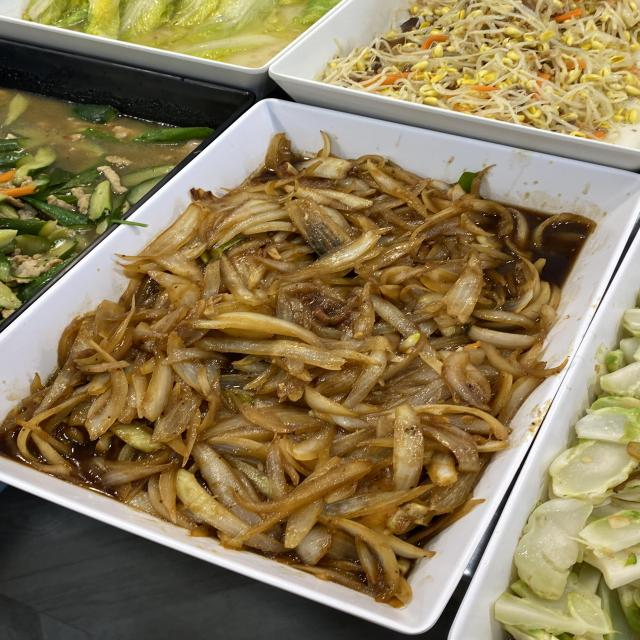Fried onions: (170, 220, 460, 481)
